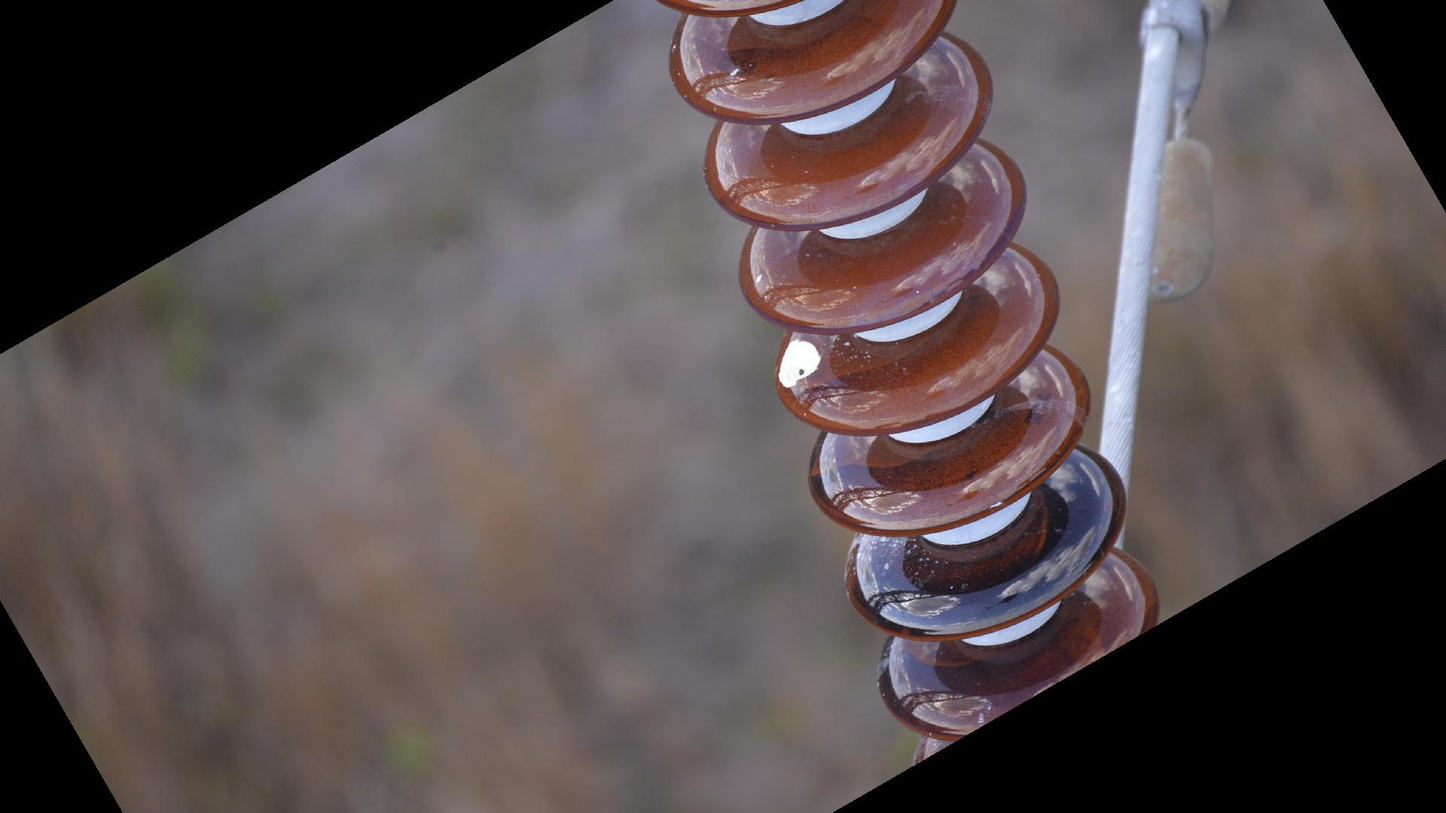insulator: (662, 1, 1169, 774)
insulator_breakage: (769, 335, 827, 395)
